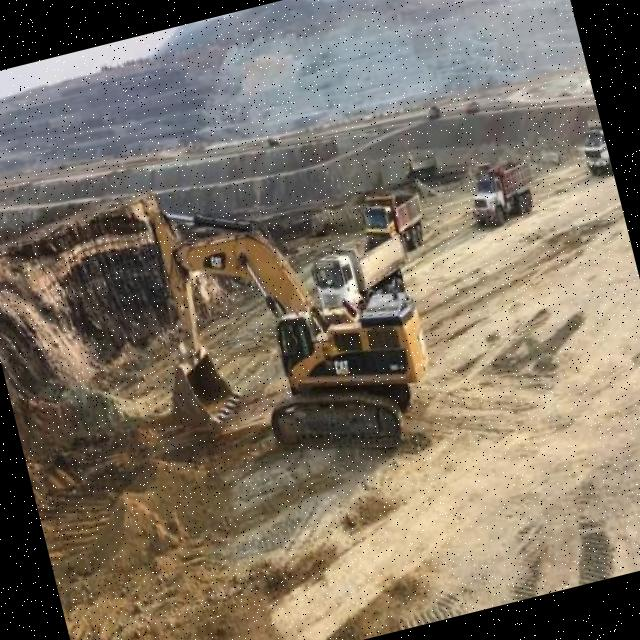Dump Truck: (304, 226, 414, 315), (459, 150, 542, 232), (354, 178, 431, 260), (570, 110, 614, 180), (400, 147, 441, 180), (460, 96, 480, 114), (264, 132, 283, 148), (424, 102, 441, 119)
Excavator: (124, 156, 448, 498)
